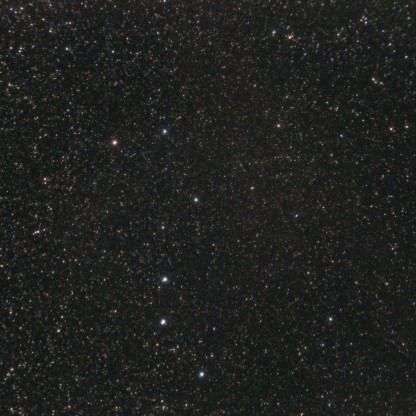Ursa Major: (185, 359, 210, 386), (153, 313, 179, 332), (152, 216, 172, 238), (157, 267, 176, 290), (185, 189, 204, 210), (103, 133, 122, 153), (154, 124, 173, 142)
